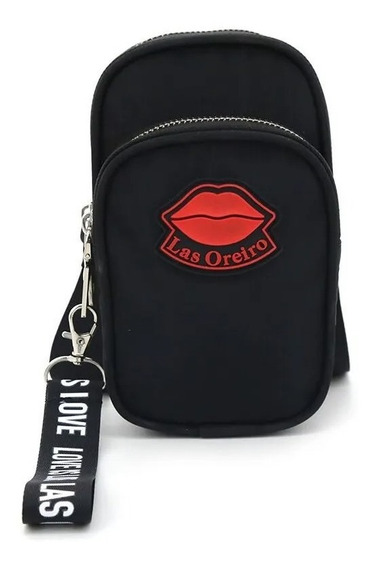cartera: (73, 27, 353, 437)
